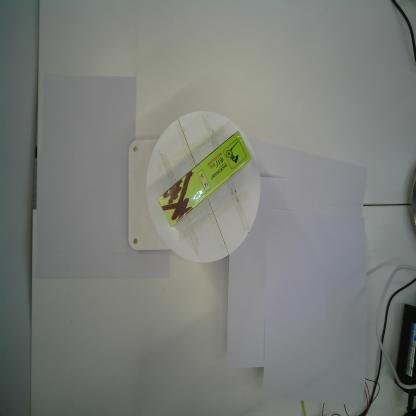Instant Drink: (157, 129, 253, 229)
